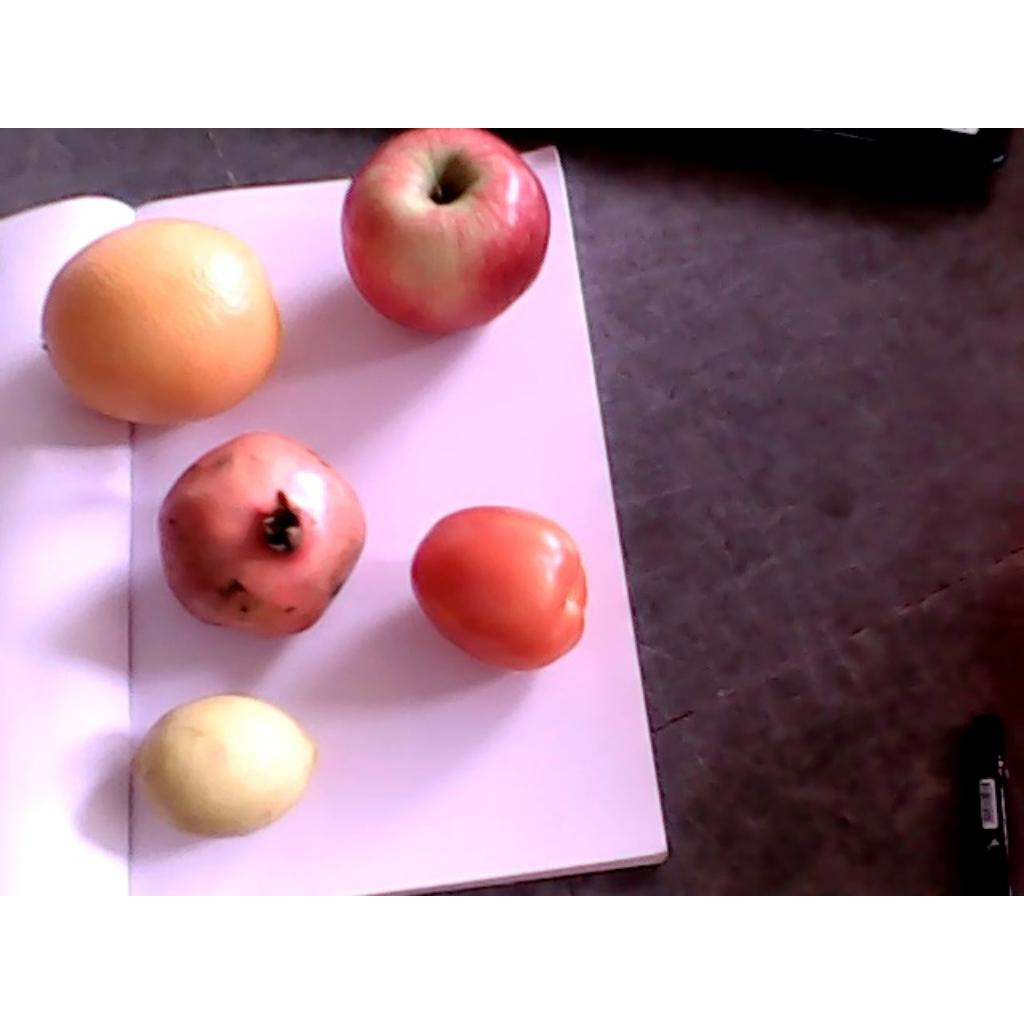apple: (341, 128, 549, 335)
lemon: (130, 696, 317, 833)
orange: (42, 219, 282, 426)
pomegranate: (159, 432, 366, 633)
tomato: (411, 506, 588, 673)
